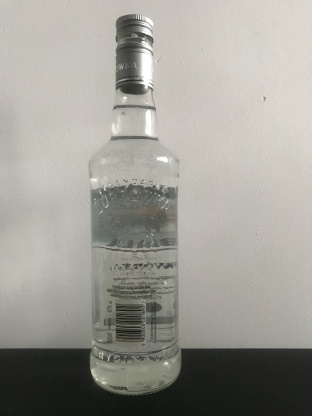nakretka: (114, 12, 155, 95), (114, 13, 155, 94)
